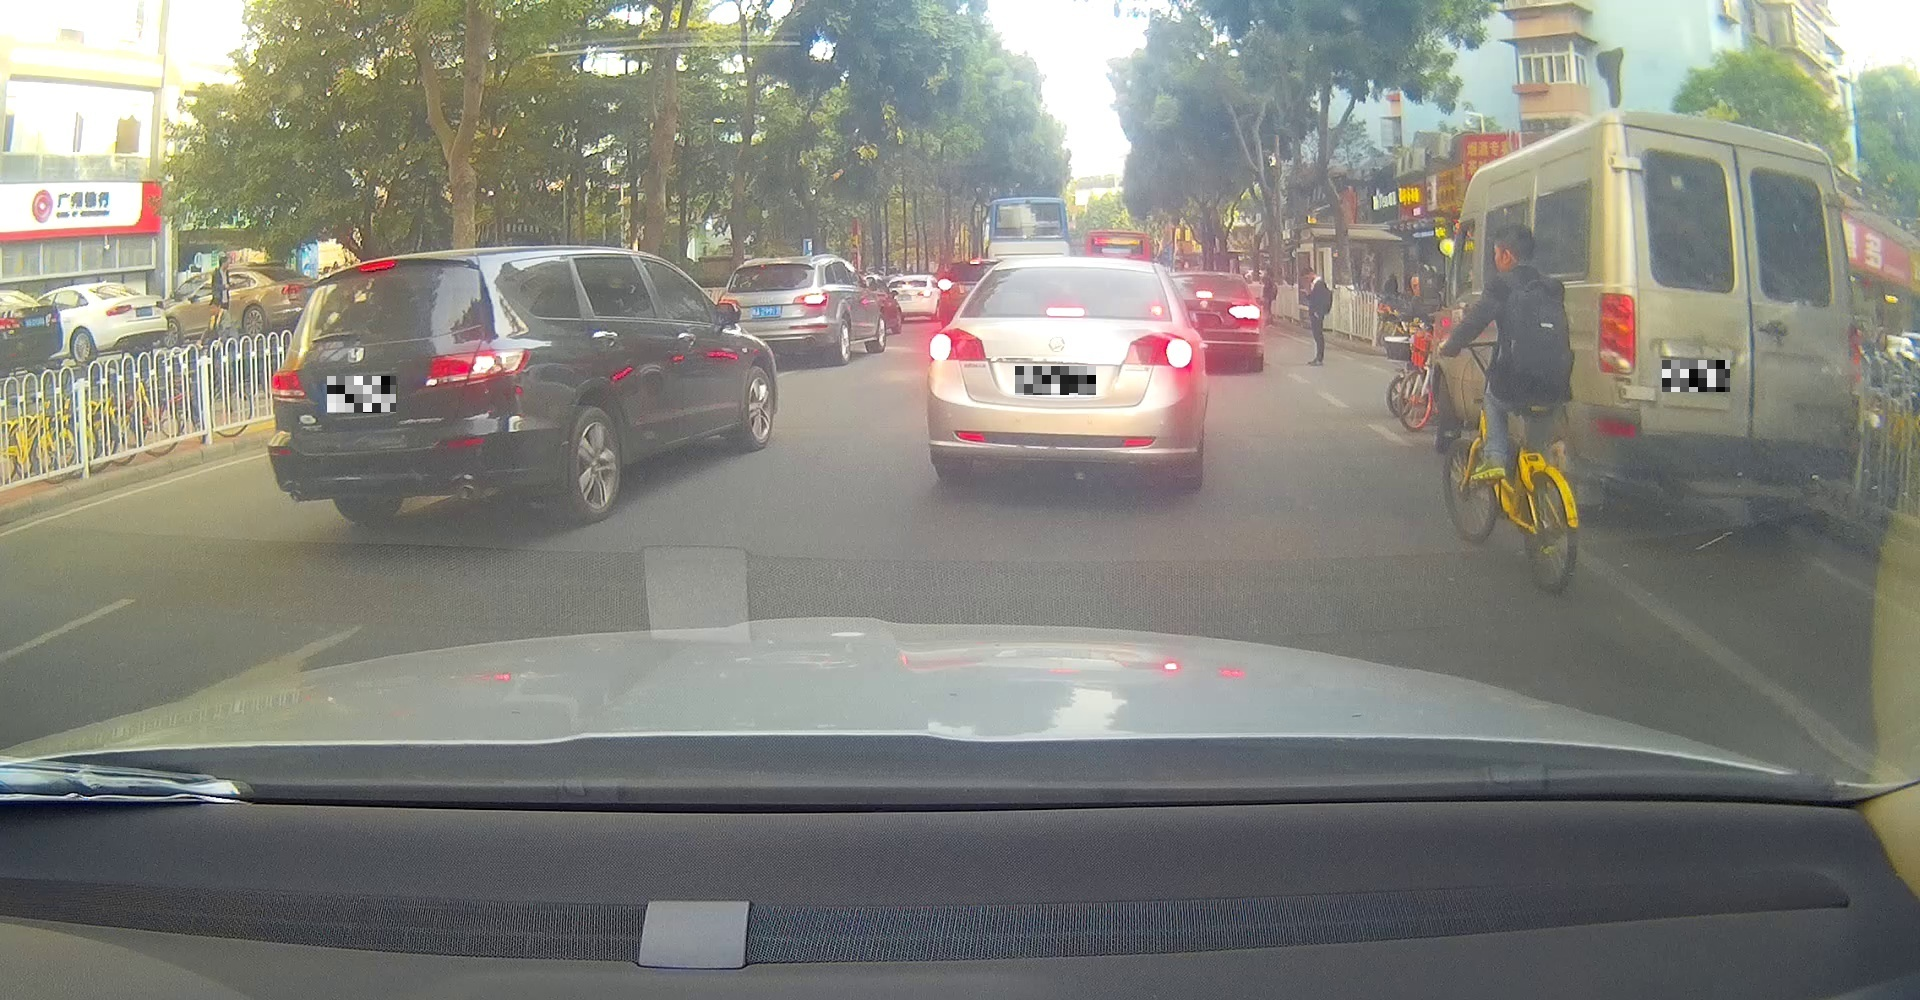L_light: (1596, 291, 1636, 376), (928, 327, 985, 360), (269, 371, 306, 398)
R_light: (425, 346, 530, 387), (1123, 331, 1194, 369), (1846, 324, 1862, 397)
T_light: (1712, 141, 1759, 159), (359, 260, 397, 272), (1046, 307, 1086, 317)
day-brake: (265, 254, 531, 525), (928, 255, 1194, 491)
day-no: (1596, 107, 1862, 528)
plate_1: (328, 376, 396, 412)
plate_2: (1015, 365, 1096, 395)
plate_3: (1662, 360, 1730, 392)
